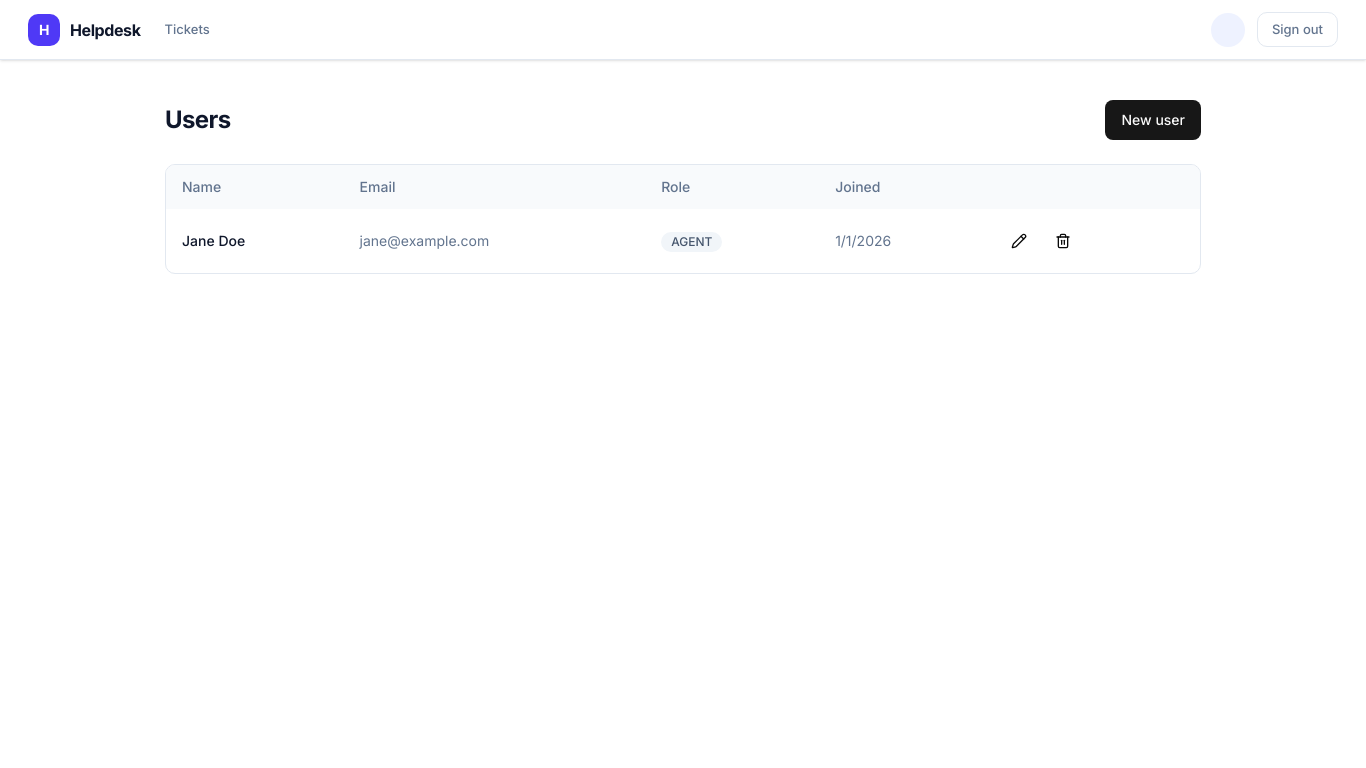
Test: UsersPage › opens the edit dialog prefilled when a row's edit button is clicked
This screenshot has width=1366, height=768.
Expected: the text "jane@example.com" is shown, [344,209,645,273]
Click the button named "edit jane doe": [1020, 241] box [1000,221,1040,261]
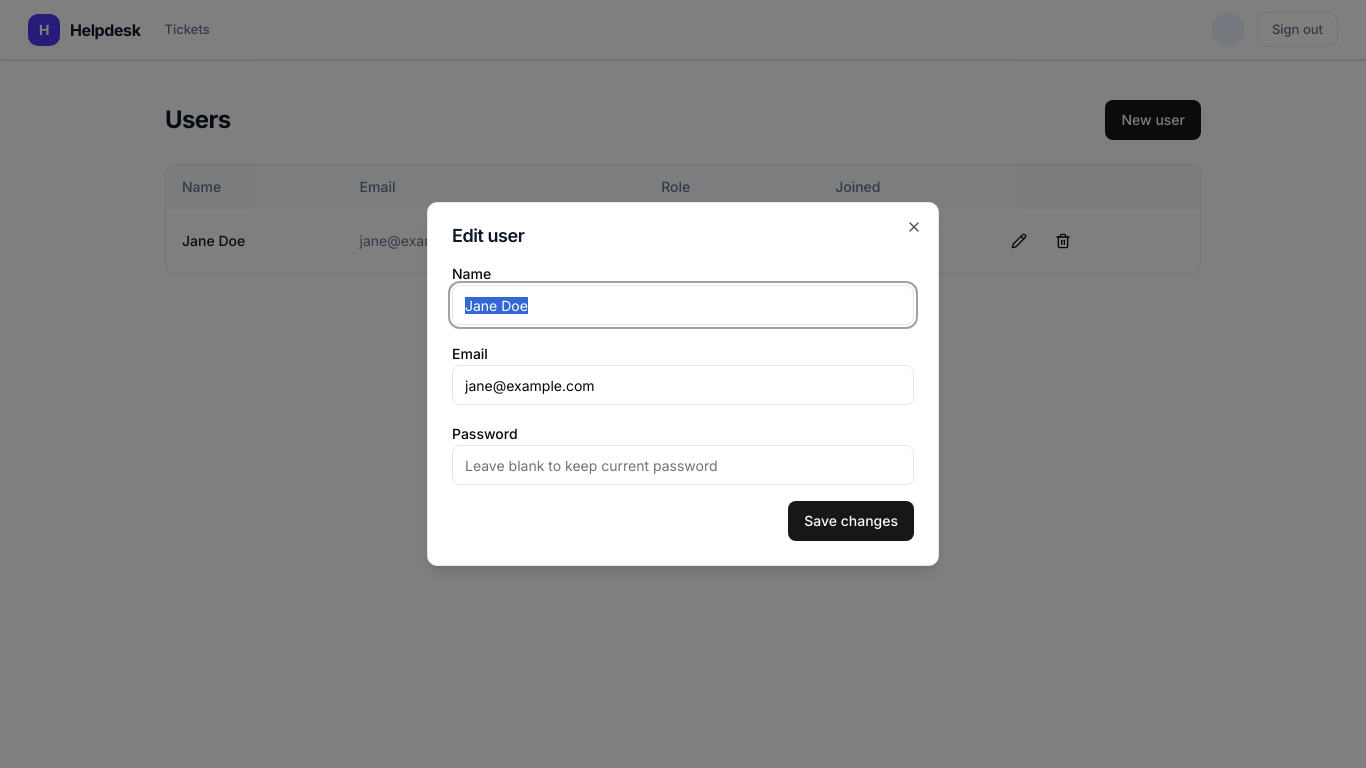
Now the dialog is shown, box [427,202,939,566]
Now the heading "Edit user" is shown, box [452,225,524,246]
Now the field labelled "Name" holds "Jane Doe", box [452,285,914,325]
